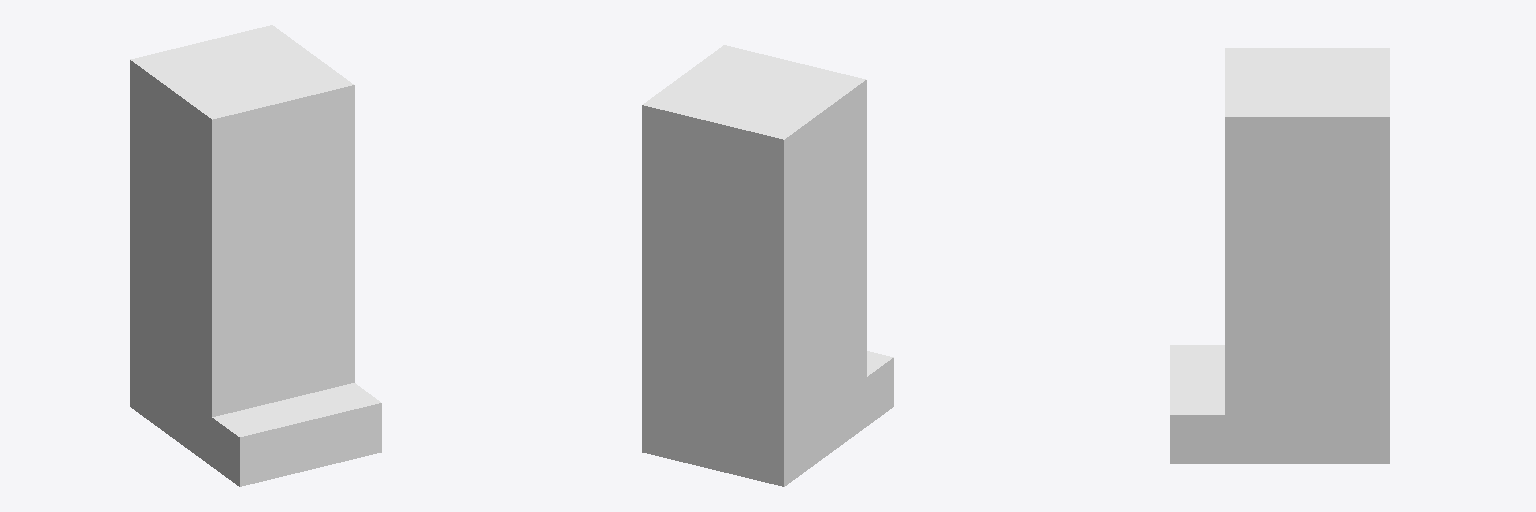
File: amphibius_hind_right_leg.obj
3 renders of one model, left to right at view 1: azimuth 30°, elevation 25°; view 2: azimuth 150°, elevation 25°; view 3: azimuth 270°, elevation 25°, orthographic.
Parts seen in each view (by area): view 1: Element #6, Element #1; view 2: Element #6, Element #1; view 3: Element #6, Element #1.
Boxes of the visible parts, box(x1,y1,x2,y2) form: Element #6: box(130, 25, 354, 466); Element #1: box(212, 383, 381, 486); Element #6: box(642, 45, 866, 486); Element #1: box(867, 351, 893, 425); Element #6: box(1225, 48, 1389, 463); Element #1: box(1170, 345, 1224, 463).
Size of the model in its own units: 3 by 7 by 4.